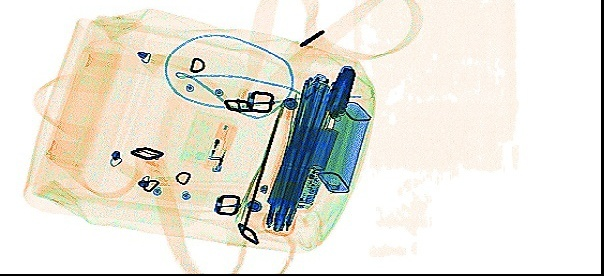knife: (325, 63, 356, 123)
lighter: (203, 119, 238, 174)
powerbank: (261, 121, 342, 210)
zippooil: (311, 97, 373, 196)
